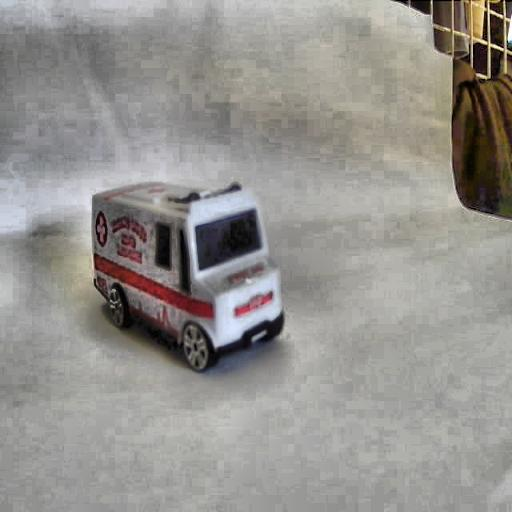ambulance: (90, 179, 284, 372)
